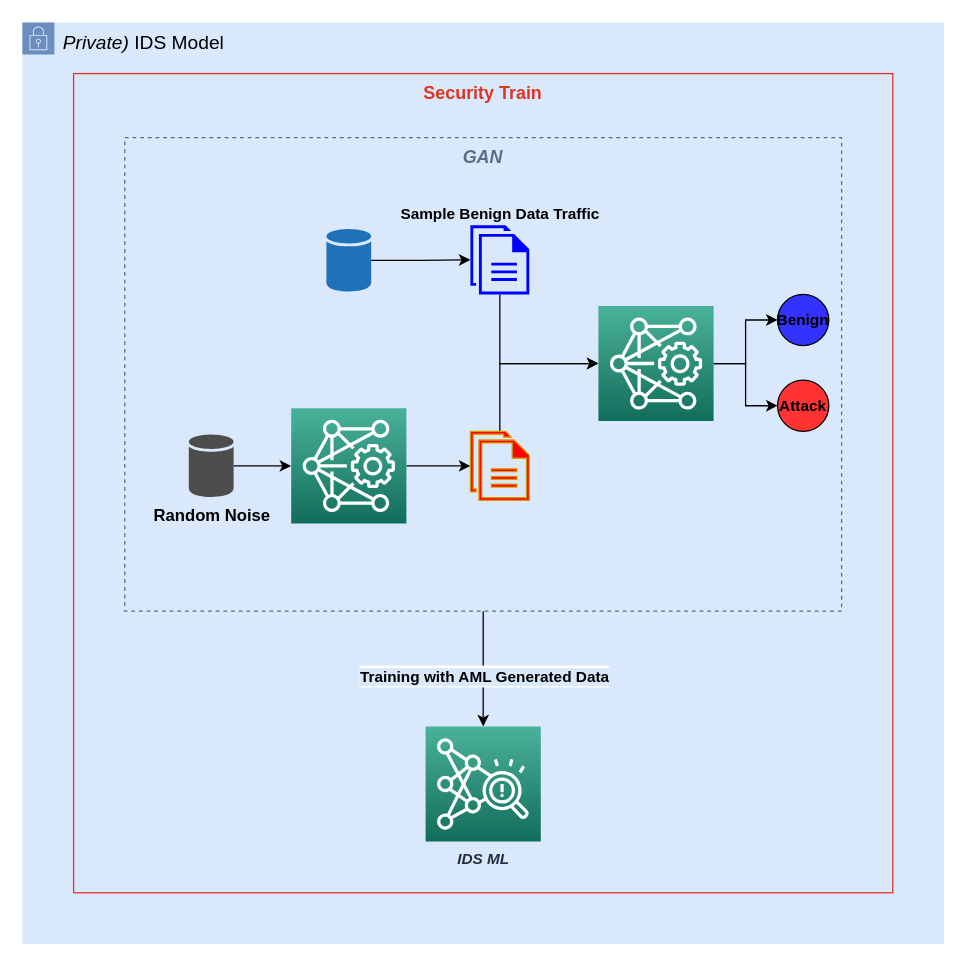
Image size: 966x966. Some labels were removed from this diagram. Here are the shapes that lost their labels. From the top down, the centre of each, then its label:
(348,259): Benign Data Traffic
(655,363): Discriminator
(348,465): Generator
(499,465): Sample Attack Data
